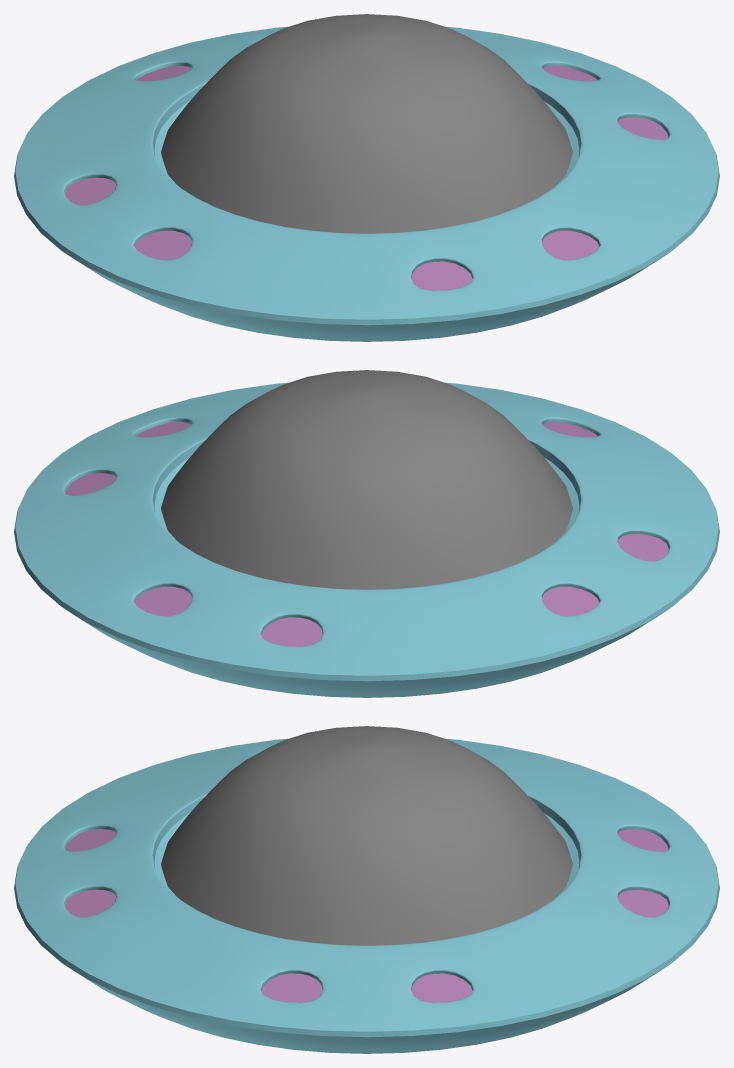
The model's file is mesh_UFO.fbx.
The picture shows the model from 3 angles, top to bottom: view 1: azimuth 30°, elevation 25°; view 2: azimuth 150°, elevation 25°; view 3: azimuth 270°, elevation 25°; orthographic projection.
Parts seen in each view (by area): view 1: Base_Ovni_high, Hublo_high, lumiere; view 2: Base_Ovni_high, Hublo_high, lumiere; view 3: Base_Ovni_high, Hublo_high, lumiere.
Part boxes in pixels (x1,y1,x2,y2): Base_Ovni_high: [14, 26, 719, 341]; Hublo_high: [161, 14, 572, 233]; lumiere: [65, 65, 668, 290]; Base_Ovni_high: [14, 382, 719, 697]; Hublo_high: [161, 370, 572, 589]; lumiere: [65, 421, 668, 646]; Base_Ovni_high: [14, 738, 719, 1053]; Hublo_high: [161, 726, 572, 945]; lumiere: [65, 829, 668, 1002].
Bounding box in the file's own units: 14.19 × 4.06 × 14.19.
